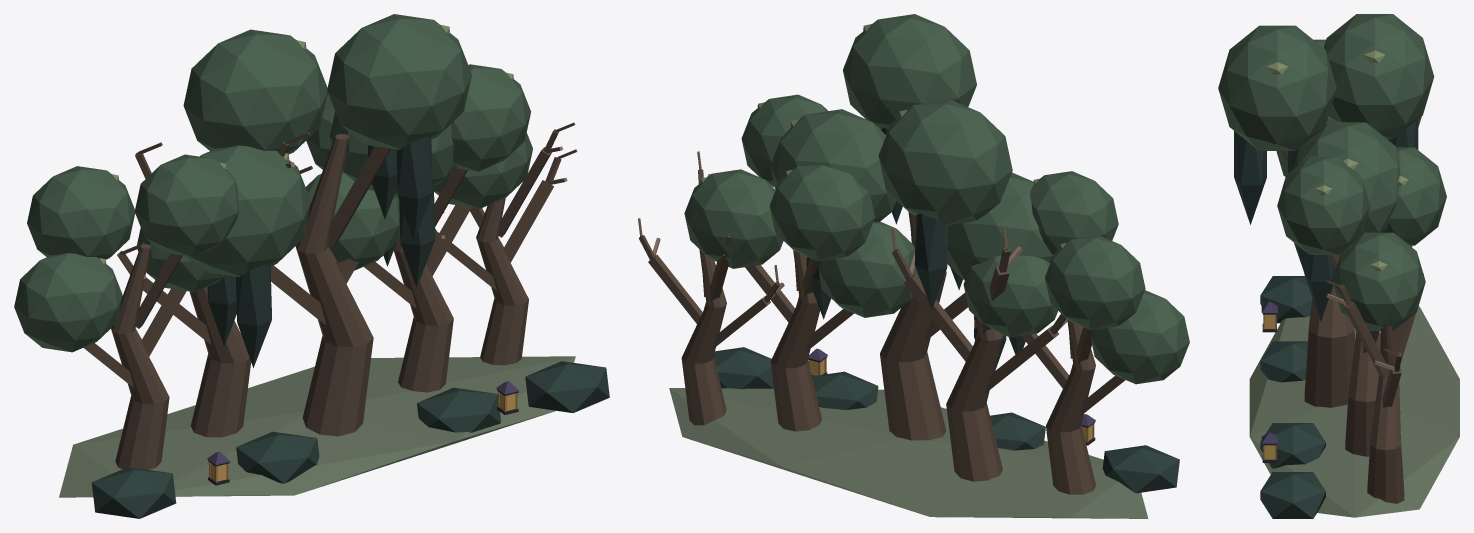
The model's file is HauntedWoods_ForestBackdrop_Showcase.glb.
The picture shows the model from 3 angles, left to right: view 1: azimuth 30°, elevation 25°; view 2: azimuth 150°, elevation 25°; view 3: azimuth 270°, elevation 25°; orthographic projection. The views are drawn at different scales.
Parts seen in each view (by area): view 1: HauntedWoods_ForestBackdrop_Showcase; view 2: HauntedWoods_ForestBackdrop_Showcase; view 3: HauntedWoods_ForestBackdrop_Showcase.
Boxes of the visible parts, x1,y1,x2,y2 form: HauntedWoods_ForestBackdrop_Showcase: [14, 14, 609, 518]; HauntedWoods_ForestBackdrop_Showcase: [638, 14, 1189, 518]; HauntedWoods_ForestBackdrop_Showcase: [1218, 14, 1459, 518].
Size of the model in its own units: 15.83 by 11.79 by 6.26.
